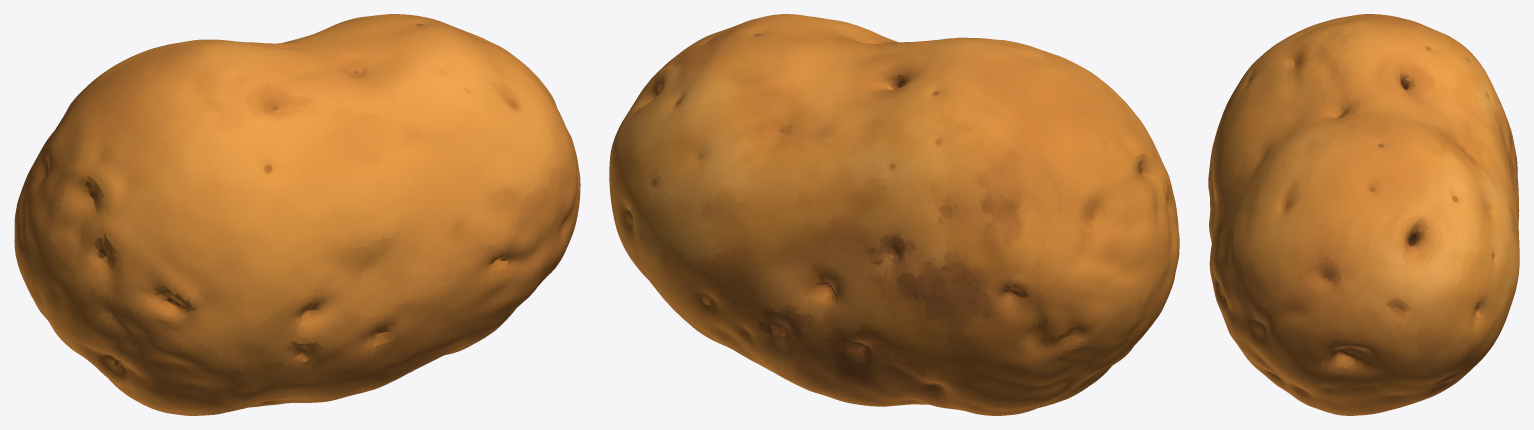
The model's file is Meshy_AI_Golden_Potato_1122031846_texture.glb.
3 views of the same model, side by side, from view 1: azimuth 30°, elevation 25°; view 2: azimuth 150°, elevation 25°; view 3: azimuth 270°, elevation 25° (orthographic). The views are drawn at different scales.
Parts seen in each view (by area): view 1: Mesh0; view 2: Mesh0; view 3: Mesh0.
Boxes of the visible parts, box(x1,y1,x2,y2) form: Mesh0: box(14, 14, 580, 415); Mesh0: box(609, 14, 1179, 415); Mesh0: box(1208, 14, 1519, 415).
Size of the model in its own units: 1.9 by 1.23 by 1.14.
1 material, 1 textured.
